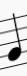G: (4, 12, 23, 69)
